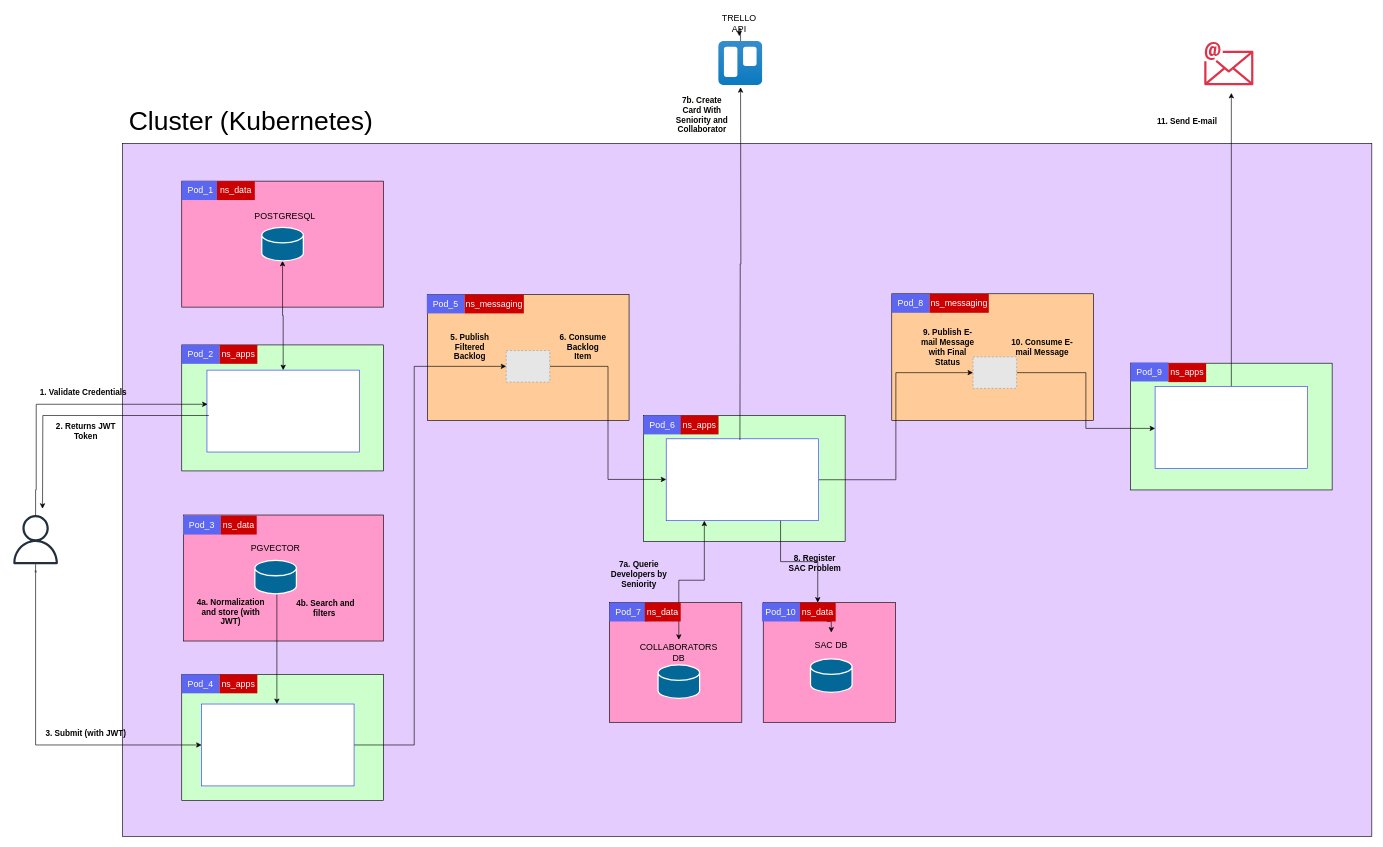
This 1383x847 diagram has some shape labels left out. Grey dashed boxes stand in for pictures. The box of each missing label's shape, as (x1, y1, x2, y2) in pixels:
1. Authentication Microservice: (206, 369, 359, 452)
2. Normalization Microservice: (201, 703, 354, 786)
3. Evaluation Microservice: (666, 438, 819, 521)
4. E-mail Microservice: (1154, 386, 1308, 468)
